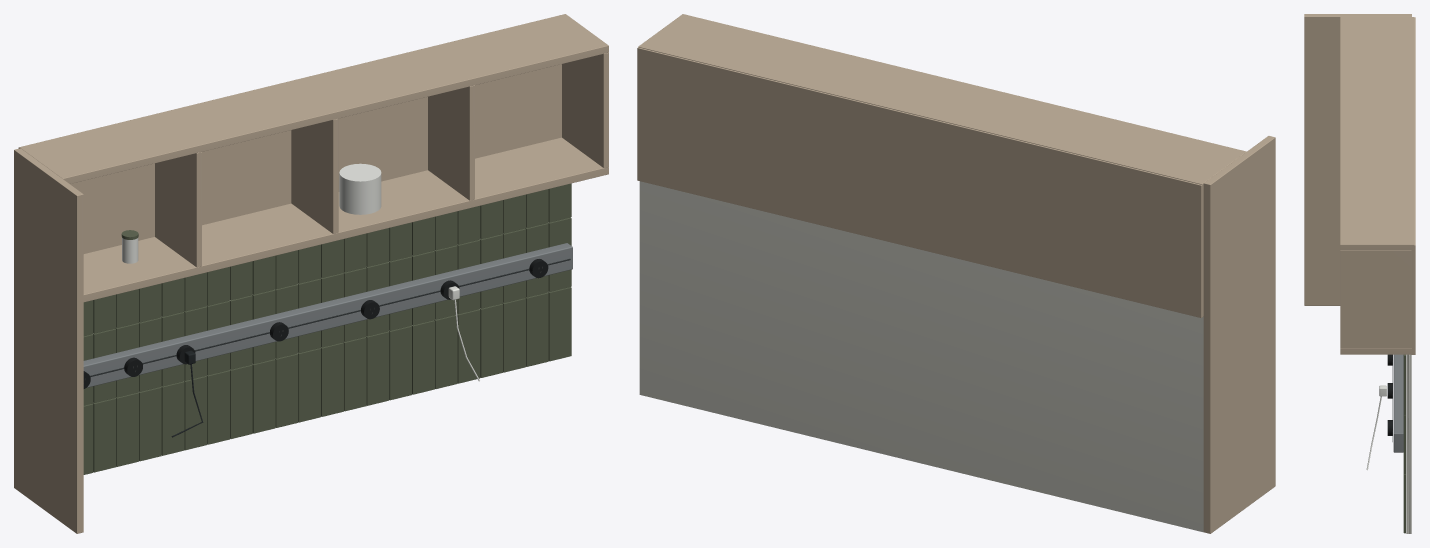
File: lod1_source.glb
3 views of the same model, side by side, from view 1: azimuth 30°, elevation 25°; view 2: azimuth 150°, elevation 25°; view 3: azimuth 270°, elevation 25° (orthographic). The views are drawn at different scales.
Parts seen in each view (by area): view 1: Upper shelf top plank, Upper open shelf back, Left cabinet tall return, Upper shelf lower plank, Grey socket track, Upper open cubby divider.002, Upper open cubby divider.001, Upper open cubby divider.004, Upper open cubby divider.003, Plain white shelf bowl, Vertical olive tile 15 0, Vertical olive tile 11 0 (+63 smaller); view 2: Backsplash warm grout backing, Upper open shelf back, Left cabinet tall return, Upper shelf top plank; view 3: Upper shelf top plank, Left cabinet tall return, Upper open cubby divider.004, Grey socket track, Backsplash warm grout backing, Upper open shelf back, Upper shelf lower plank, Vertical olive tile 23 2, Vertical olive tile 23 1, Vertical olive tile 23 0, Appliance power cord.001.
Part boxes in pixels (box(x1,y1,x2,y2)): Upper shelf top plank: box(19, 14, 608, 183); Upper open shelf back: box(18, 64, 561, 253); Left cabinet tall return: box(14, 148, 83, 533); Upper shelf lower plank: box(83, 137, 608, 302); Grey socket track: box(83, 243, 572, 387); Upper open cubby divider.002: box(291, 118, 338, 233); Upper open cubby divider.001: box(155, 152, 201, 267); Upper open cubby divider.004: box(562, 52, 608, 167); Upper open cubby divider.003: box(428, 85, 474, 200); Plain white shelf bowl: box(339, 163, 381, 214); Vertical olive tile 15 0: box(366, 331, 389, 405); Vertical olive tile 11 0: box(275, 353, 298, 427); Backsplash warm grout backing: box(639, 181, 1203, 532); Upper open shelf back: box(637, 47, 1203, 317); Left cabinet tall return: box(1203, 136, 1275, 533); Upper shelf top plank: box(638, 14, 1246, 184); Upper shelf top plank: box(1340, 17, 1414, 250); Left cabinet tall return: box(1304, 14, 1411, 305); Upper open cubby divider.004: box(1340, 250, 1413, 348); Grey socket track: box(1393, 354, 1403, 452); Backsplash warm grout backing: box(1406, 354, 1411, 533); Upper open shelf back: box(1412, 17, 1415, 354); Upper shelf lower plank: box(1340, 348, 1411, 354); Vertical olive tile 23 2: box(1403, 354, 1405, 414); Vertical olive tile 23 1: box(1403, 414, 1405, 473); Vertical olive tile 23 0: box(1403, 474, 1405, 533); Appliance power cord.001: box(1366, 396, 1381, 470).
Bounding box in the file's own units: 2.43 × 1.42 × 0.496.
